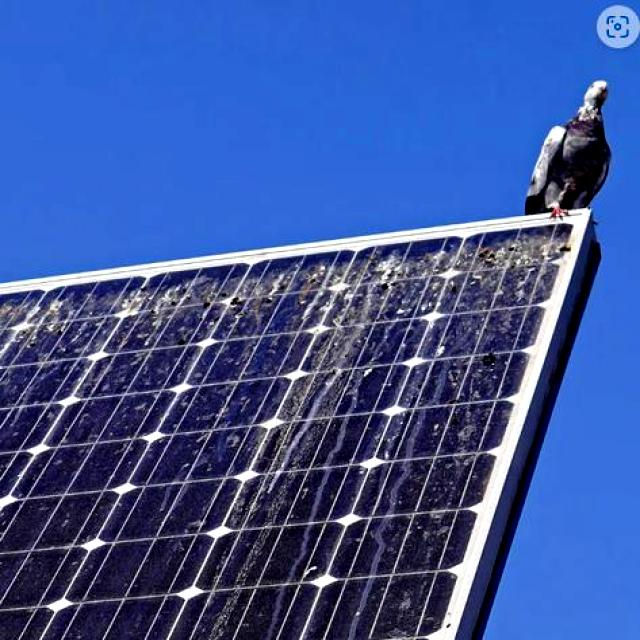bird: (463, 228, 567, 295), (333, 266, 448, 323), (96, 294, 184, 352), (195, 282, 288, 334), (442, 333, 526, 376), (422, 406, 497, 450)
